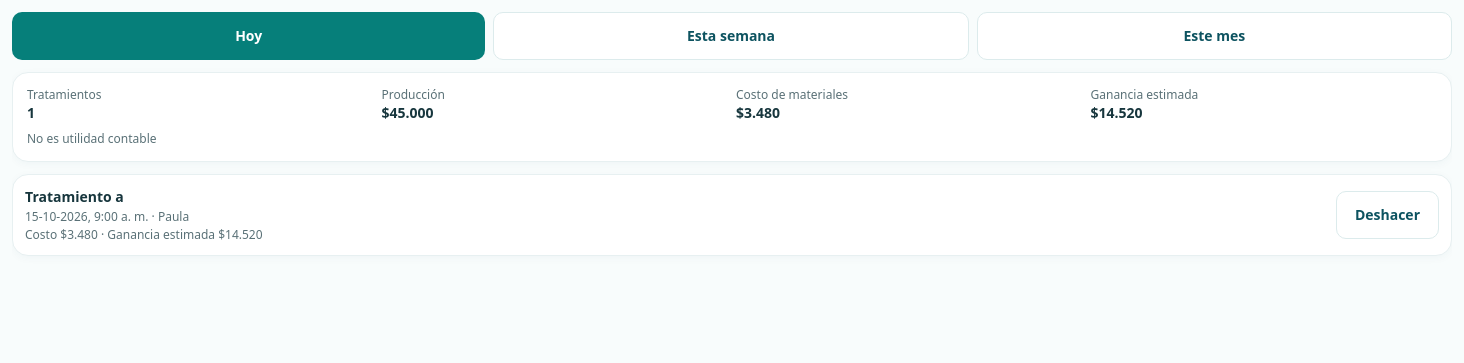
Test: historial de tratamientos (US5) › filtra por período del lugar activo y suma los totales
Expected: the text "Tratamiento a" is shown, x1=25 y1=187 x2=124 y2=206
Expected: the text "Tratamiento b" is not shown
Click the button "Esta semana" at (731, 36), box x1=493 y1=12 x2=969 y2=60
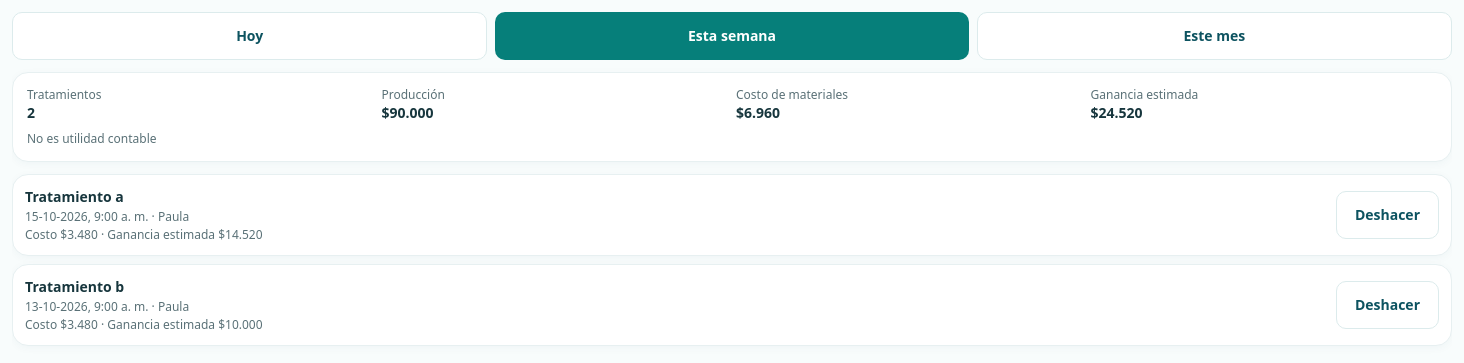
Expected: the text "Tratamiento b" is shown, x1=25 y1=277 x2=124 y2=296
Expected: the text "$24.520" is shown, x1=1090 y1=103 x2=1142 y2=122
